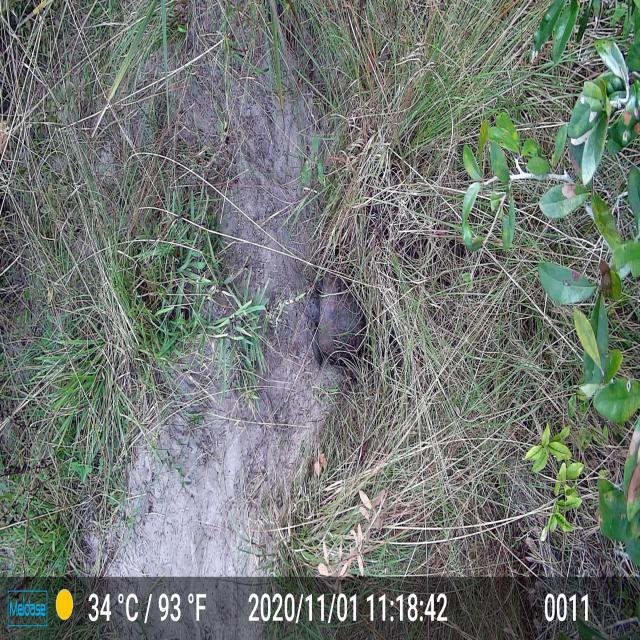tortoise: (305, 262, 375, 378)
